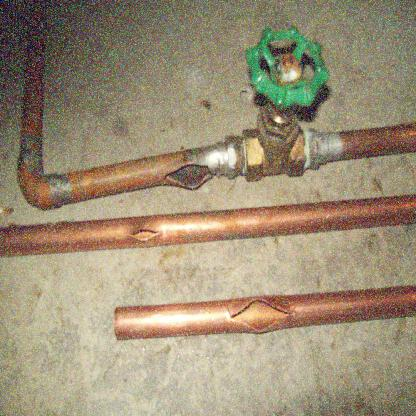burst: (229, 292, 295, 337), (165, 163, 213, 192), (135, 226, 158, 248)
